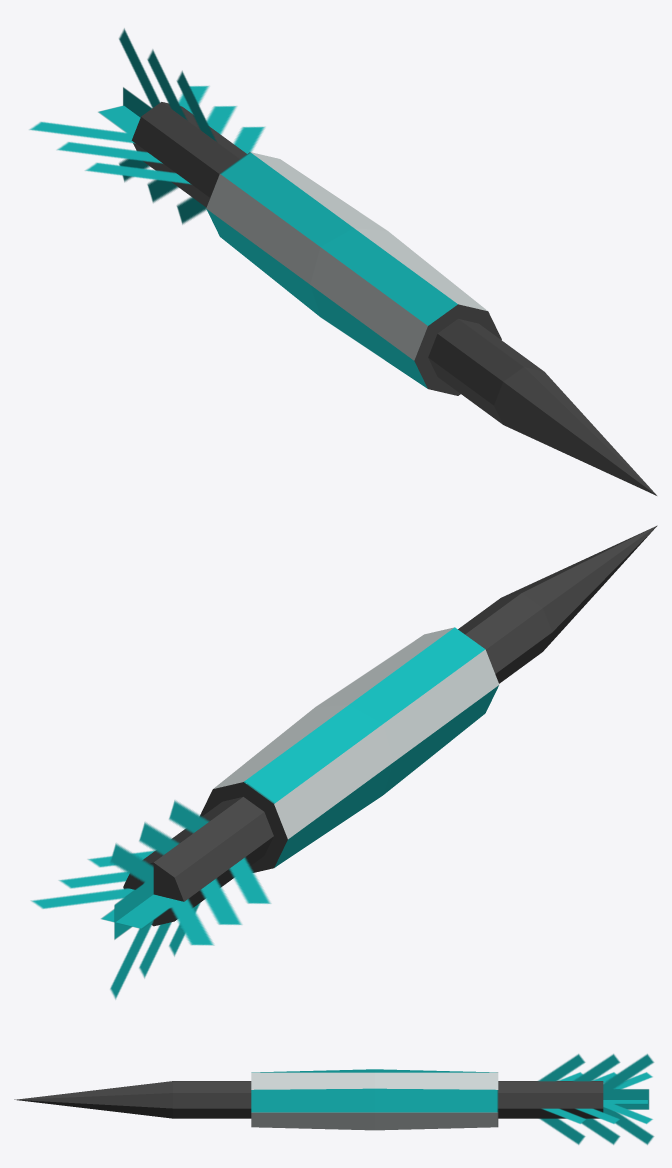
File: Dart Blue.glb
3 renders of one model, top to bottom at view 1: azimuth 30°, elevation 25°; view 2: azimuth 150°, elevation 25°; view 3: azimuth 270°, elevation 25°, orthographic. The views are drawn at different scales.
Visible parts, largest first — view 1: Cube; view 2: Cube; view 3: Cube.
Boxes of the visible parts, left/top/right/bottom form: Cube: left=29, top=28, right=656, bottom=495; Cube: left=31, top=525, right=657, bottom=999; Cube: left=14, top=1054, right=653, bottom=1144.
Bounding box in the file's own units: 0.8846 × 0.7645 × 4.28.
Materials: 1 (1 with a texture image).
